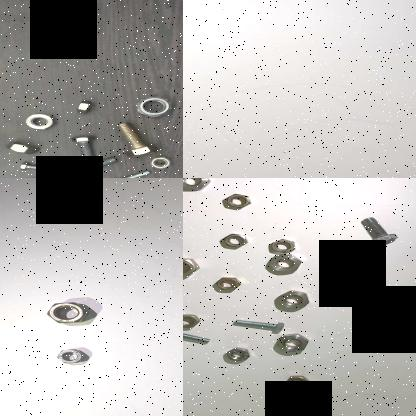Bolts: (115, 122, 156, 158), (358, 216, 398, 248), (231, 318, 289, 333), (76, 158, 118, 176), (16, 160, 66, 174), (70, 134, 96, 160), (183, 325, 215, 343), (9, 174, 71, 178)
NUTS: (35, 298, 98, 328), (134, 95, 174, 119), (51, 346, 92, 368), (264, 254, 302, 274), (20, 113, 59, 132), (276, 334, 310, 354), (276, 290, 312, 308), (4, 139, 38, 155), (320, 267, 352, 283), (223, 192, 250, 210), (224, 346, 254, 362), (183, 256, 203, 280), (212, 274, 241, 290), (221, 232, 250, 248), (270, 237, 296, 254), (284, 375, 310, 390), (70, 101, 96, 115), (147, 156, 171, 170), (183, 178, 211, 190), (183, 314, 202, 327)
